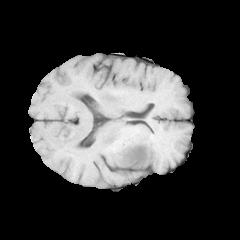glioma: (113, 141, 153, 168)
